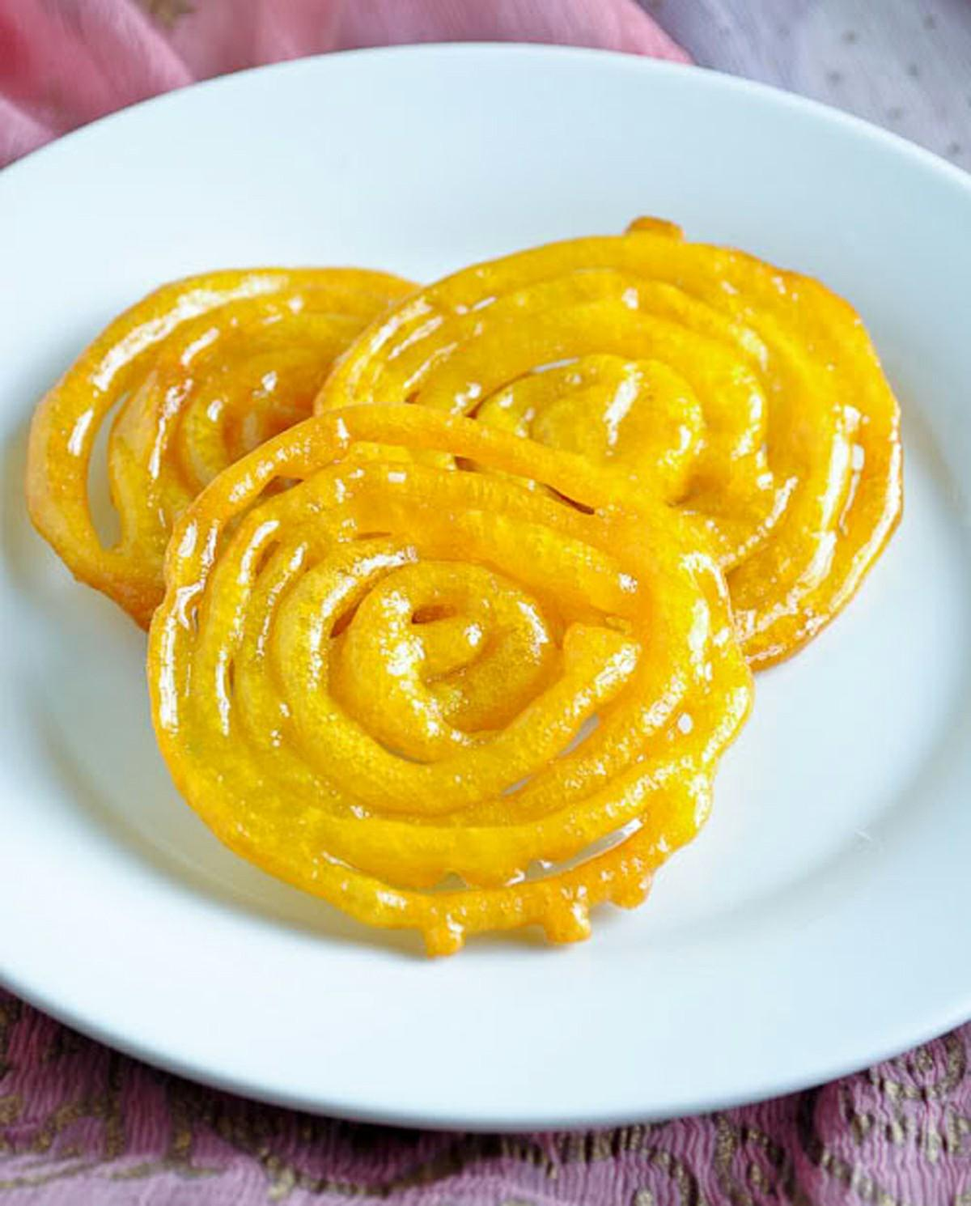Jalebi: (17, 202, 916, 961)
